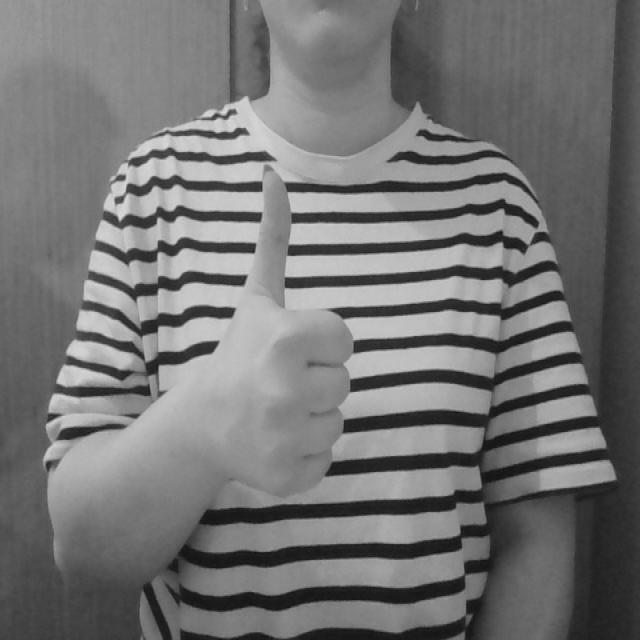Tamam: (197, 154, 358, 502)
